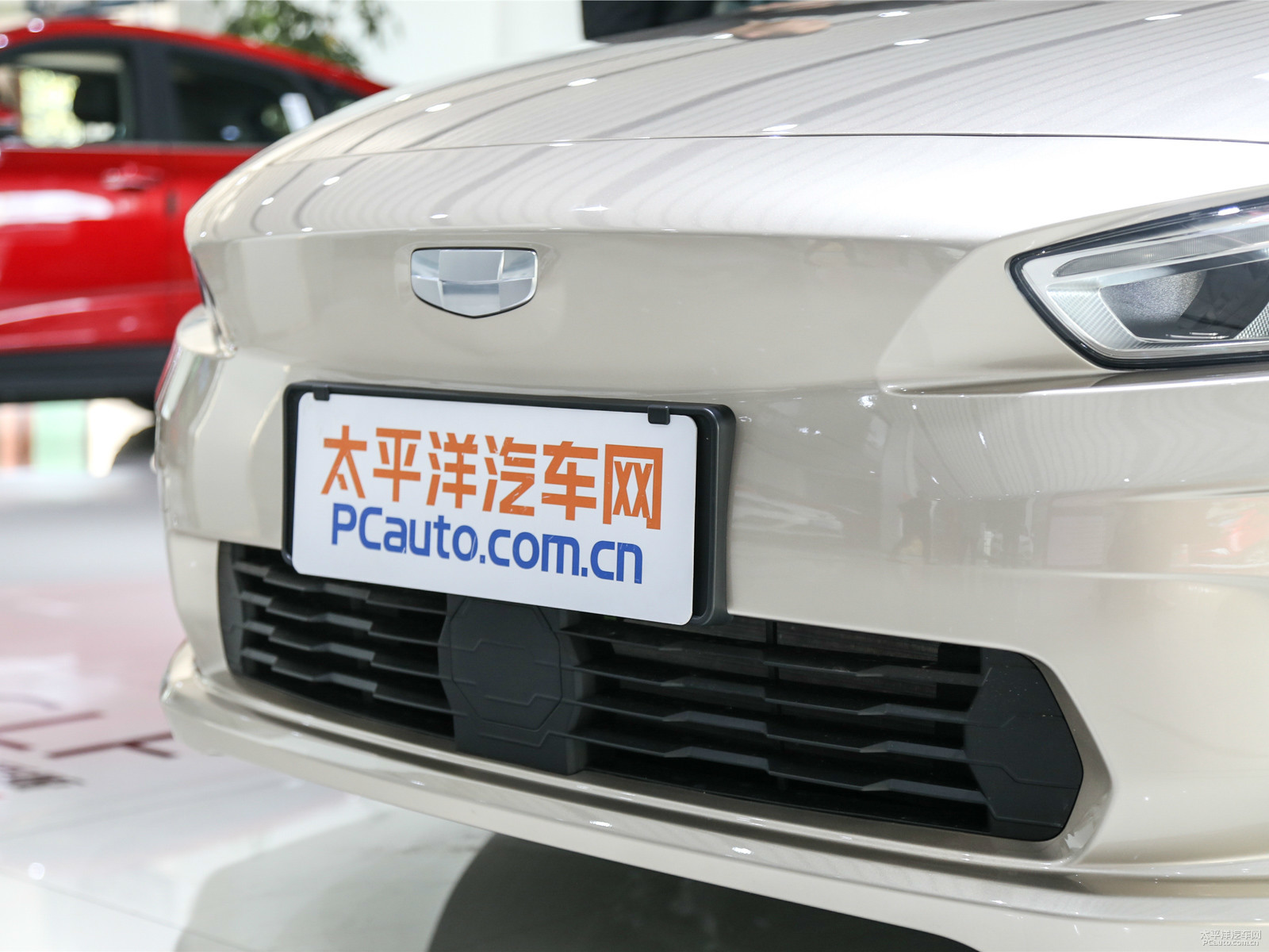GEOMETRY: (412, 249, 537, 316)
